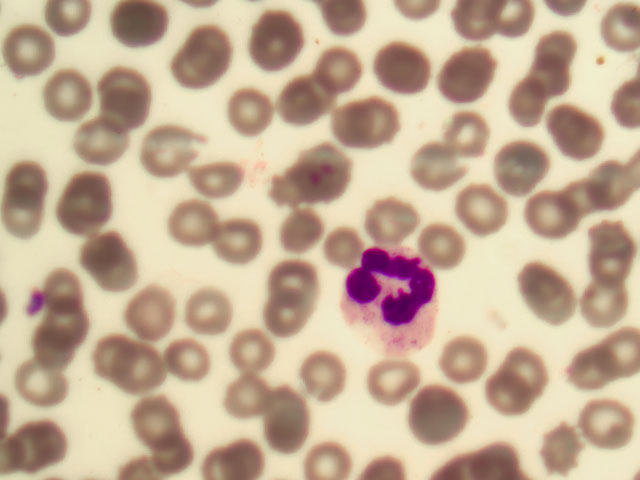Platelets: (22, 288, 43, 316)
RBC: (3, 24, 56, 75), (43, 68, 96, 119), (96, 71, 149, 122), (77, 118, 130, 169), (59, 174, 112, 225), (5, 150, 58, 201), (8, 187, 61, 238), (84, 237, 137, 288), (42, 265, 95, 316), (40, 307, 93, 358), (24, 333, 77, 384), (12, 357, 65, 408), (84, 334, 137, 385), (108, 345, 161, 396), (163, 334, 216, 385), (120, 288, 173, 339), (191, 290, 244, 341), (212, 213, 265, 264), (173, 198, 226, 249), (189, 156, 242, 207), (145, 123, 198, 174), (223, 83, 276, 134), (163, 45, 216, 96), (187, 24, 240, 75), (108, 1, 161, 52), (248, 15, 301, 66), (273, 80, 326, 131), (304, 43, 357, 94), (330, 101, 383, 152), (296, 144, 349, 195), (272, 210, 325, 261), (270, 255, 323, 306), (267, 293, 320, 344), (223, 329, 276, 380), (225, 372, 278, 423), (259, 391, 312, 442), (296, 351, 349, 402), (371, 357, 424, 408), (415, 391, 468, 442), (436, 335, 489, 386), (483, 375, 536, 426), (500, 345, 553, 396), (521, 258, 574, 309), (422, 221, 475, 272), (369, 200, 422, 251), (447, 184, 500, 235), (410, 140, 463, 191), (433, 113, 486, 164), (438, 41, 491, 92), (387, 37, 440, 88), (504, 80, 557, 131), (514, 56, 567, 107), (524, 29, 577, 80), (558, 112, 611, 163), (522, 194, 575, 245), (575, 168, 628, 219), (587, 151, 640, 202), (587, 224, 640, 275), (586, 279, 639, 330), (587, 341, 640, 392), (576, 397, 629, 448), (536, 421, 589, 472), (130, 397, 183, 448), (17, 418, 70, 469)
WBC: (345, 245, 442, 354)
